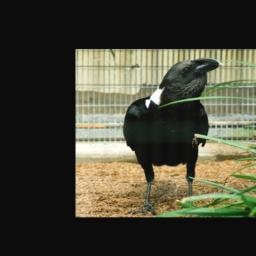Crow: (123, 57, 225, 216)
